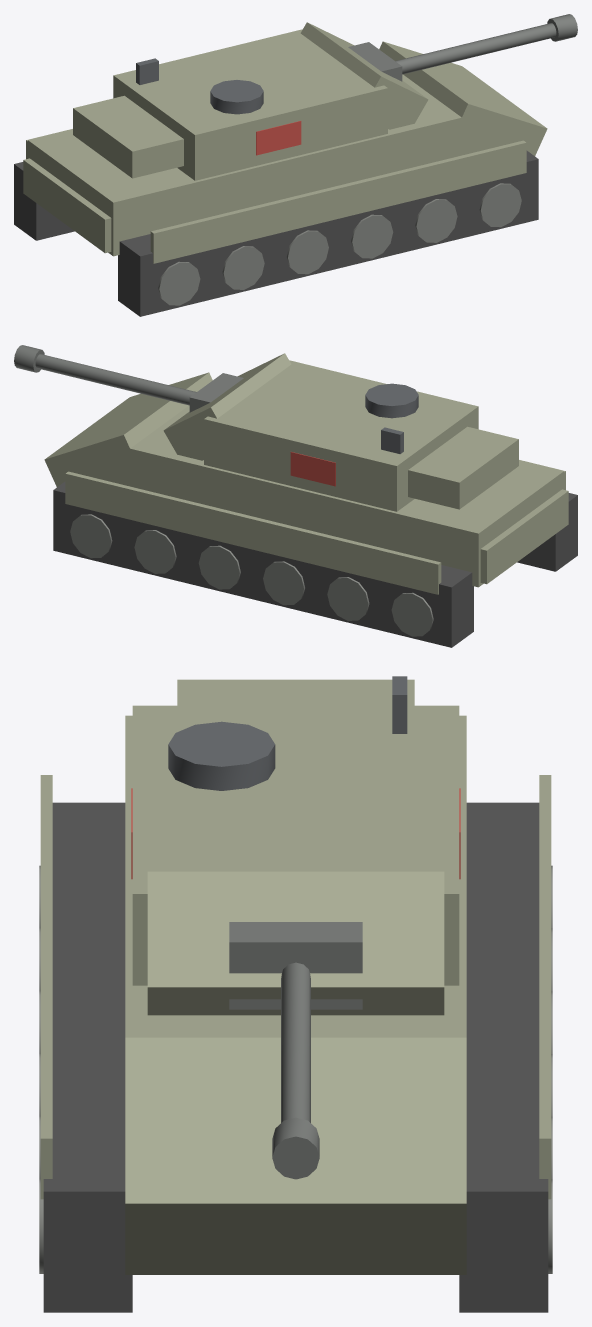
The model's file is tank.glb.
The picture shows the model from 3 angles, top to bottom: view 1: azimuth 30°, elevation 25°; view 2: azimuth 150°, elevation 25°; view 3: azimuth 270°, elevation 25°; orthographic projection. The views are drawn at different scales.
Bounding box in the file's own units: 7.9 × 2.47 × 3.46.
